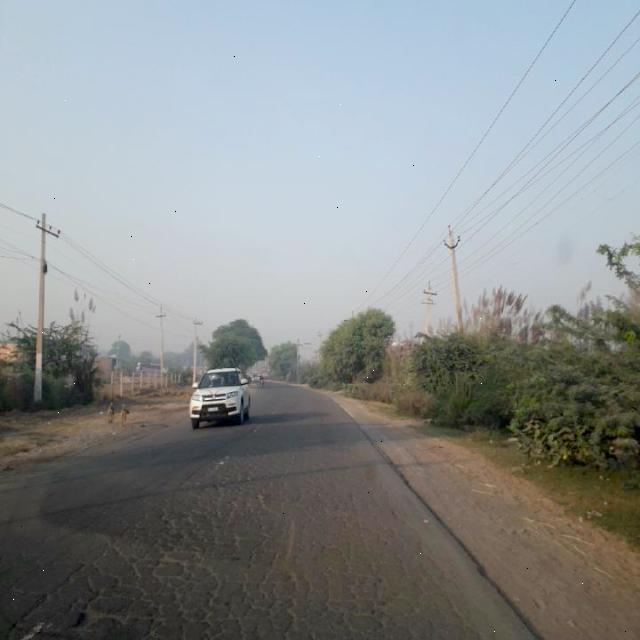D20: (1, 460, 463, 639)
